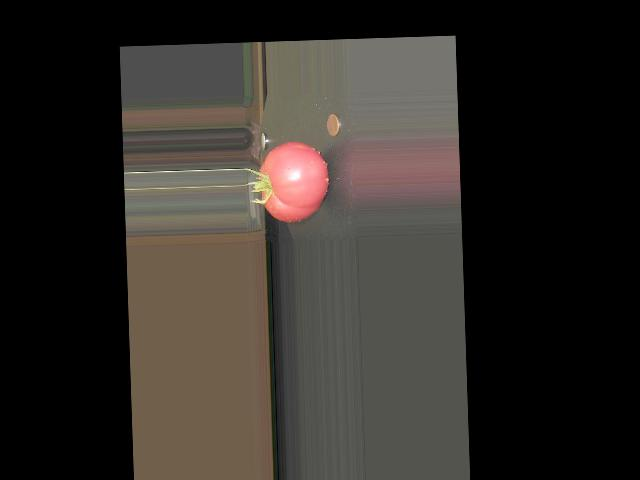tomato: (258, 141, 330, 223)
